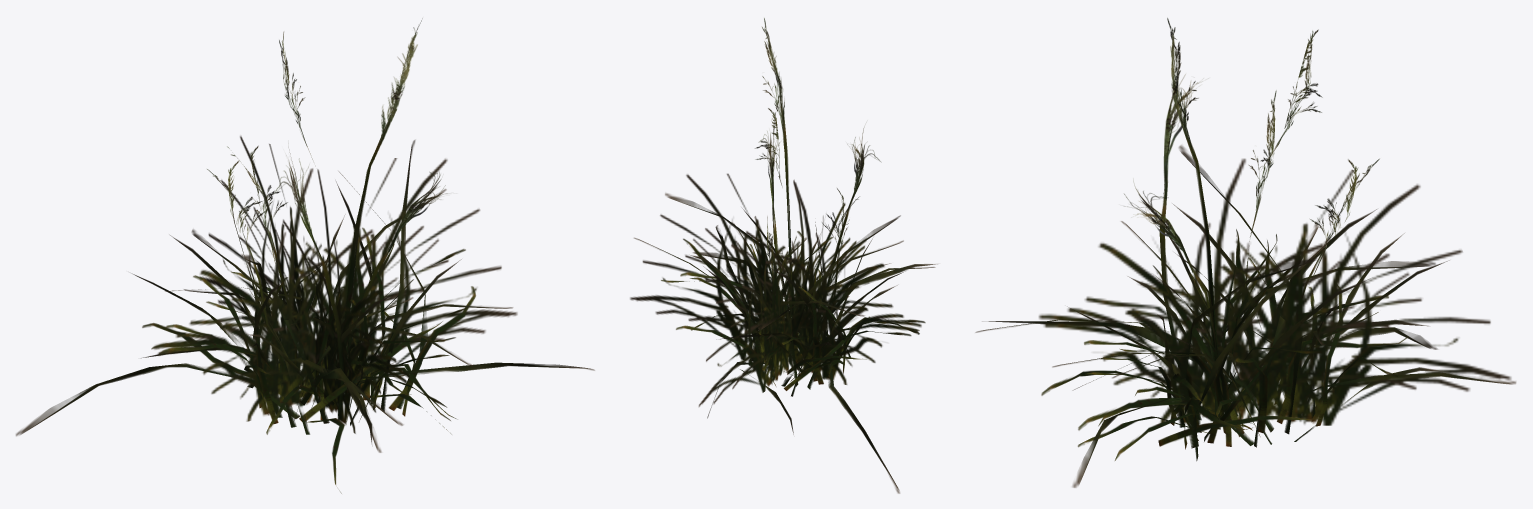
The model's file is pine_grass_b.glb.
The picture shows the model from 3 angles, left to right: view 1: azimuth 30°, elevation 25°; view 2: azimuth 150°, elevation 25°; view 3: azimuth 270°, elevation 25°; orthographic projection. The views are drawn at different scales.
Parts seen in each view (by area): view 1: pine_grass_b; view 2: pine_grass_b; view 3: pine_grass_b.
Part boxes in pixels (x1,y1,x2,y2): pine_grass_b: (16, 18, 594, 493); pine_grass_b: (630, 18, 937, 493); pine_grass_b: (975, 18, 1516, 487).
Size of the model in its own units: 0.8805 by 0.8696 by 0.8679.
1 material, 1 textured.
